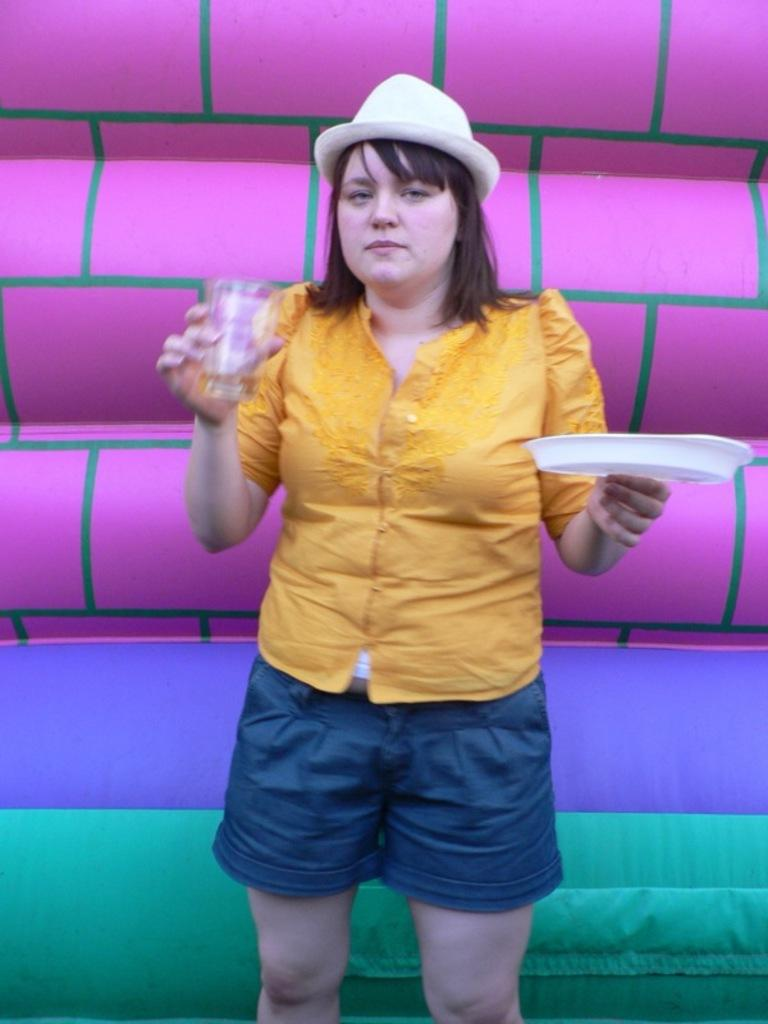Hat: (314, 70, 502, 202)
